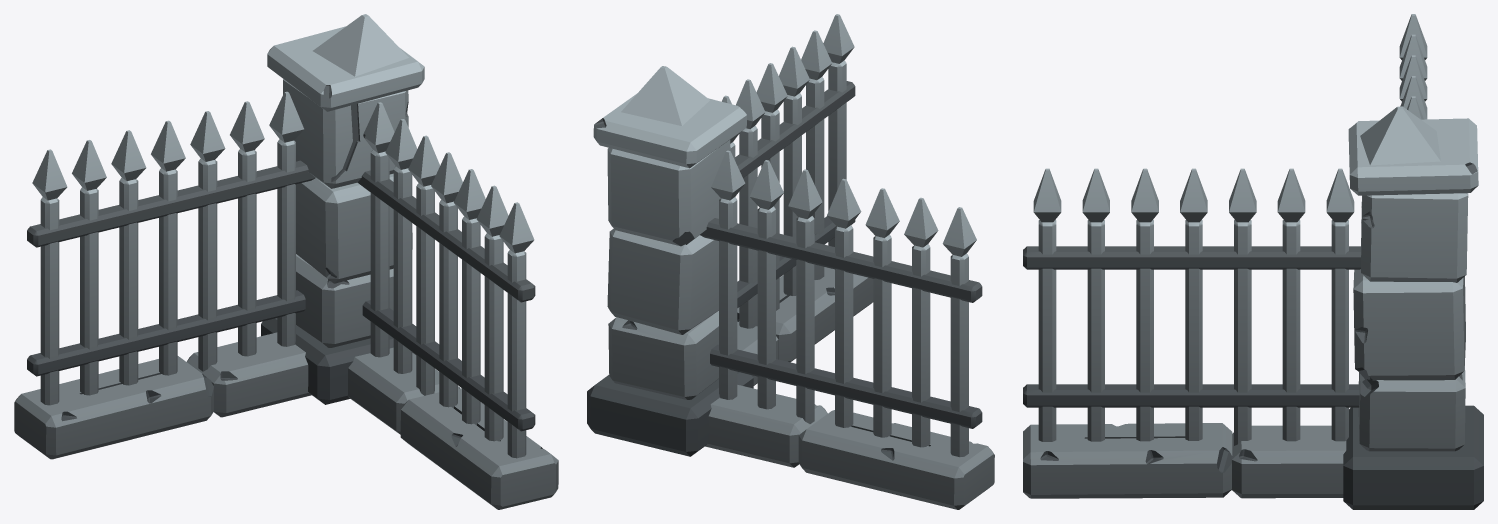
The model's file is graveyard_fence_corner.glb.
3 renders of one model, left to right at view 1: azimuth 30°, elevation 25°; view 2: azimuth 150°, elevation 25°; view 3: azimuth 270°, elevation 25°, orthographic. The views are drawn at different scales.
Visible parts, largest first — view 1: graveyard_fence_corner; view 2: graveyard_fence_corner; view 3: graveyard_fence_corner.
Boxes of the visible parts, x1,y1,x2,y2 form: graveyard_fence_corner: (14,14,558,509); graveyard_fence_corner: (587,14,994,509); graveyard_fence_corner: (1023,14,1483,509).
Size of the model in its own units: 2.36 by 2.17 by 2.36.
1 material, 1 textured.
